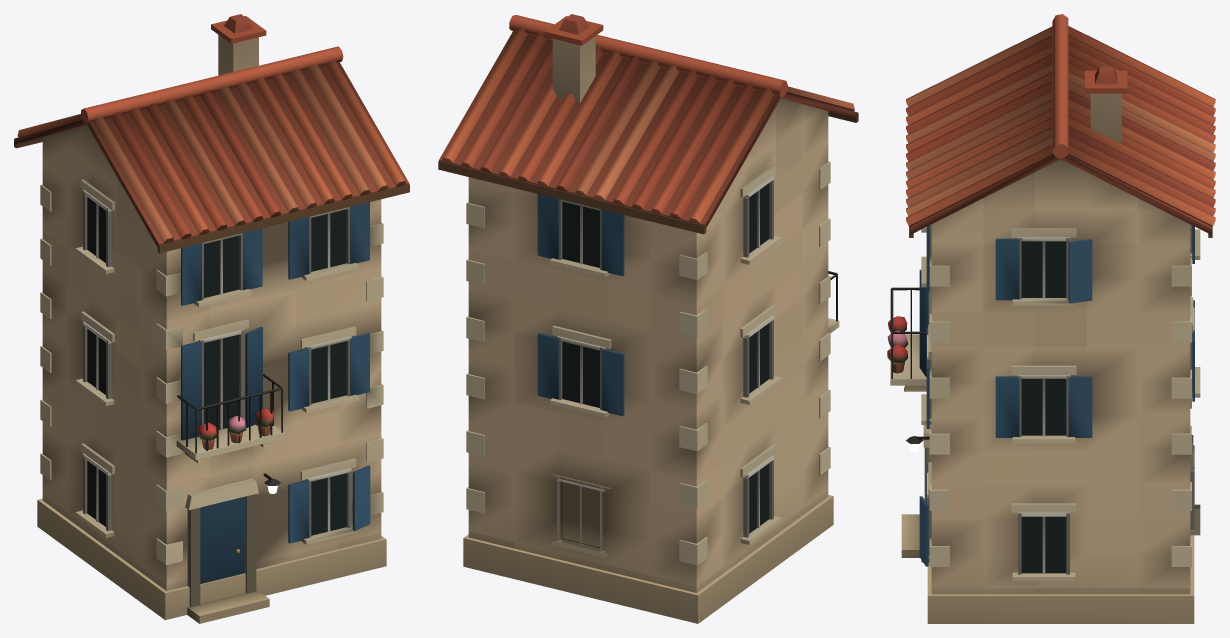
Rendered from townhouse_b.glb.
The picture shows the model from 3 angles, left to right: view 1: azimuth 30°, elevation 25°; view 2: azimuth 150°, elevation 25°; view 3: azimuth 270°, elevation 25°; orthographic projection. The views are drawn at different scales.
Visible parts, largest first — view 1: townhouse_b_mesh; view 2: townhouse_b_mesh; view 3: townhouse_b_mesh.
Boxes of the visible parts, <box> form: townhouse_b_mesh: <box>14,14,409,623</box>; townhouse_b_mesh: <box>438,14,858,623</box>; townhouse_b_mesh: <box>887,14,1215,623</box>.
Size of the model in its own units: 5.46 by 10.26 by 5.84.
